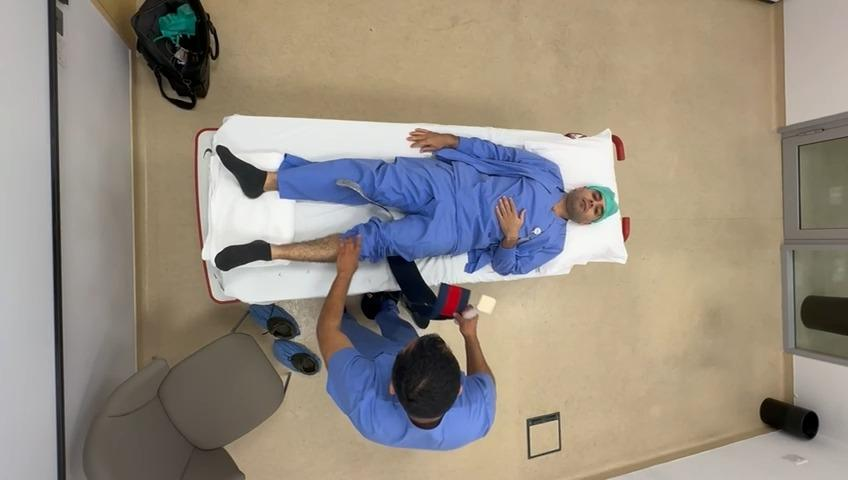bed: (197, 119, 631, 306)
patient: (215, 128, 618, 275)
prepstick: (462, 295, 495, 320)
tourniquet: (431, 283, 470, 319)
